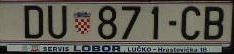-: (168, 19, 177, 27)
1: (151, 5, 160, 39)
7: (121, 4, 142, 41)
8: (98, 5, 117, 40)
B: (204, 6, 224, 41)
C: (181, 5, 201, 40)
D: (23, 5, 44, 40)
U: (47, 5, 68, 39)
